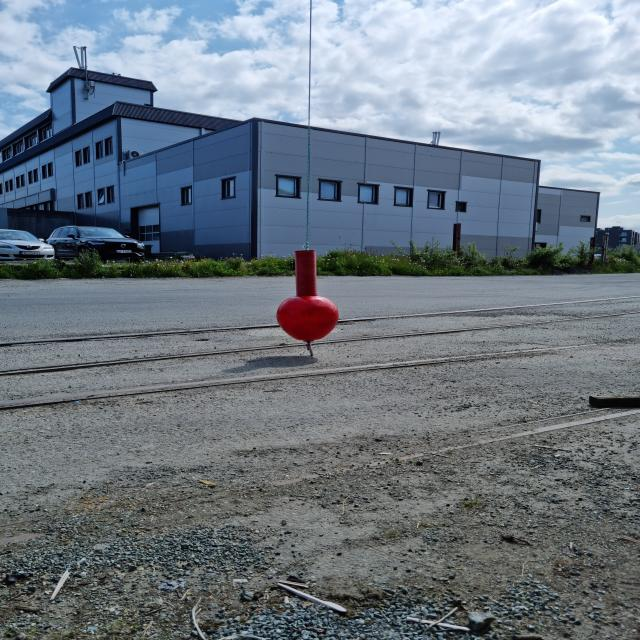red: (276, 251, 341, 342)
